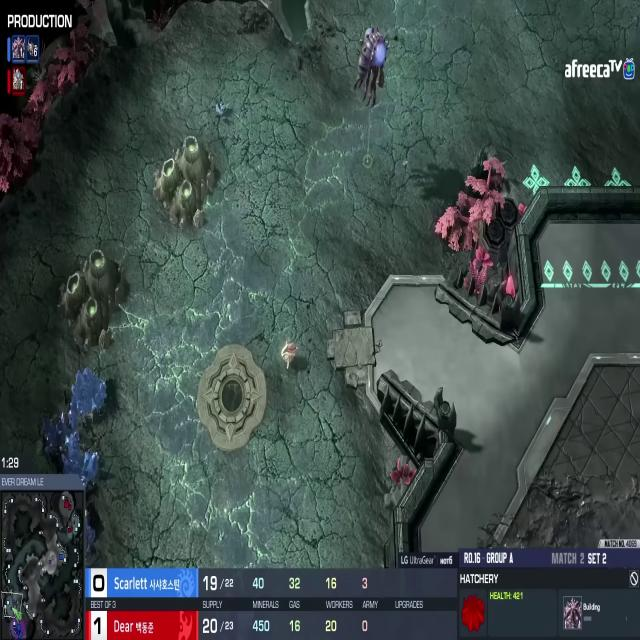overlord: (352, 22, 390, 114)
probe: (277, 330, 302, 376)
